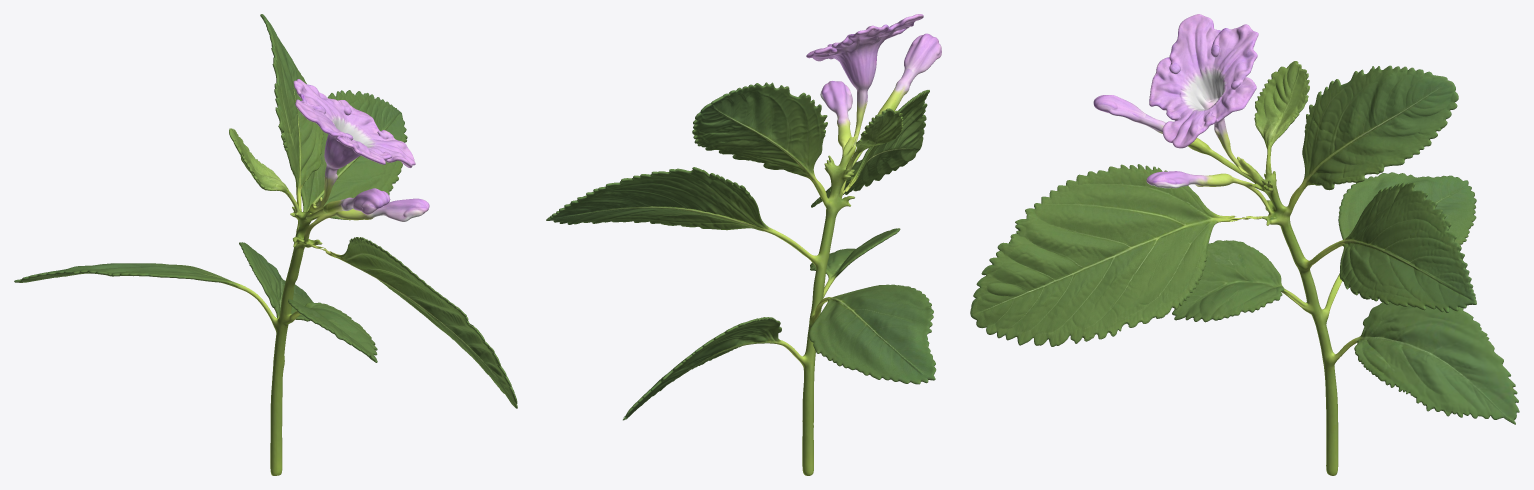
File: stachytarpheta_cayennensis.fbx
3 views of the same model, side by side, from view 1: azimuth 30°, elevation 25°; view 2: azimuth 150°, elevation 25°; view 3: azimuth 270°, elevation 25° (orthographic). The views are drawn at different scales.
Parts seen in each view (by area): view 1: tripo_node_df1f5005; view 2: tripo_node_df1f5005; view 3: tripo_node_df1f5005.
Boxes of the visible parts, left/top/right/bottom form: tripo_node_df1f5005: left=14, top=14, right=517, bottom=475; tripo_node_df1f5005: left=546, top=14, right=941, bottom=475; tripo_node_df1f5005: left=970, top=14, right=1519, bottom=475.
Size of the model in its own units: 81.05 by 85.2 by 96.71.
Materials: 1 (1 with a texture image).
